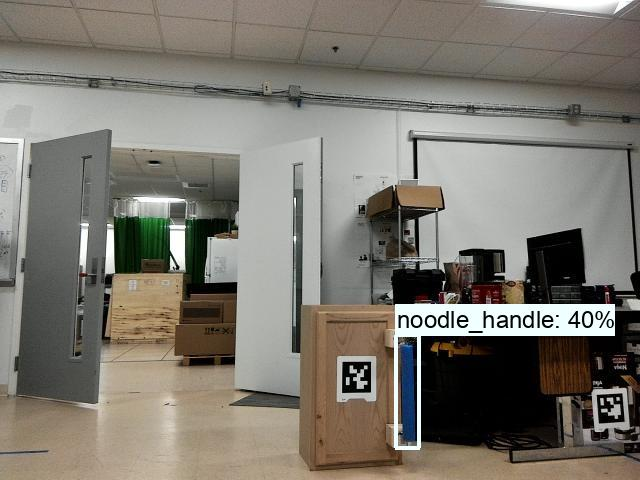noodle_handle: (398, 338, 417, 444)
